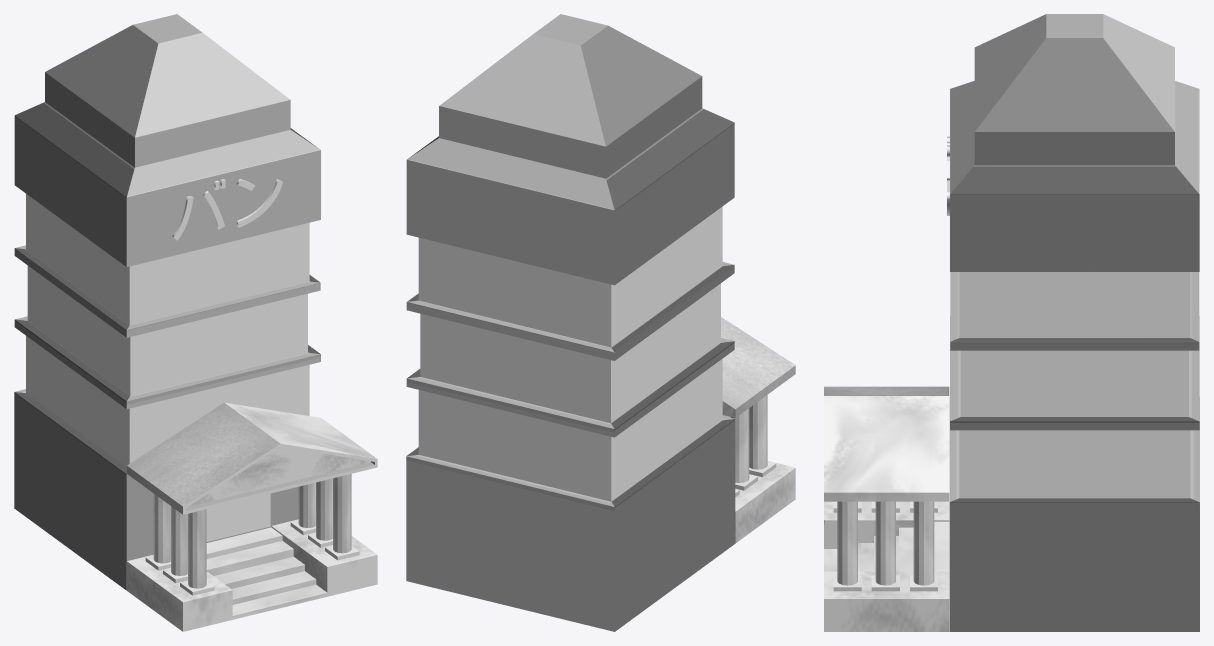
The model's file is bank_jp.gltf.
The picture shows the model from 3 angles, left to right: view 1: azimuth 30°, elevation 25°; view 2: azimuth 150°, elevation 25°; view 3: azimuth 270°, elevation 25°; orthographic projection. The views are drawn at different scales.
Parts seen in each view (by area): view 1: Bank_JP_Bldg; view 2: Bank_JP_Bldg; view 3: Bank_JP_Bldg.
Boxes of the visible parts, box(x1,y1,x2,y2) form: Bank_JP_Bldg: box(14, 14, 377, 631); Bank_JP_Bldg: box(406, 14, 795, 631); Bank_JP_Bldg: box(824, 14, 1199, 631).
Size of the model in its own units: 2 by 4.88 by 3.
2 materials, 1 textured.
